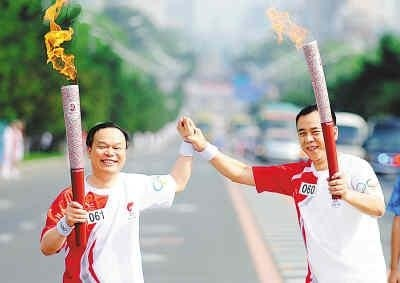fire: (41, 0, 77, 80), (267, 7, 309, 45)
